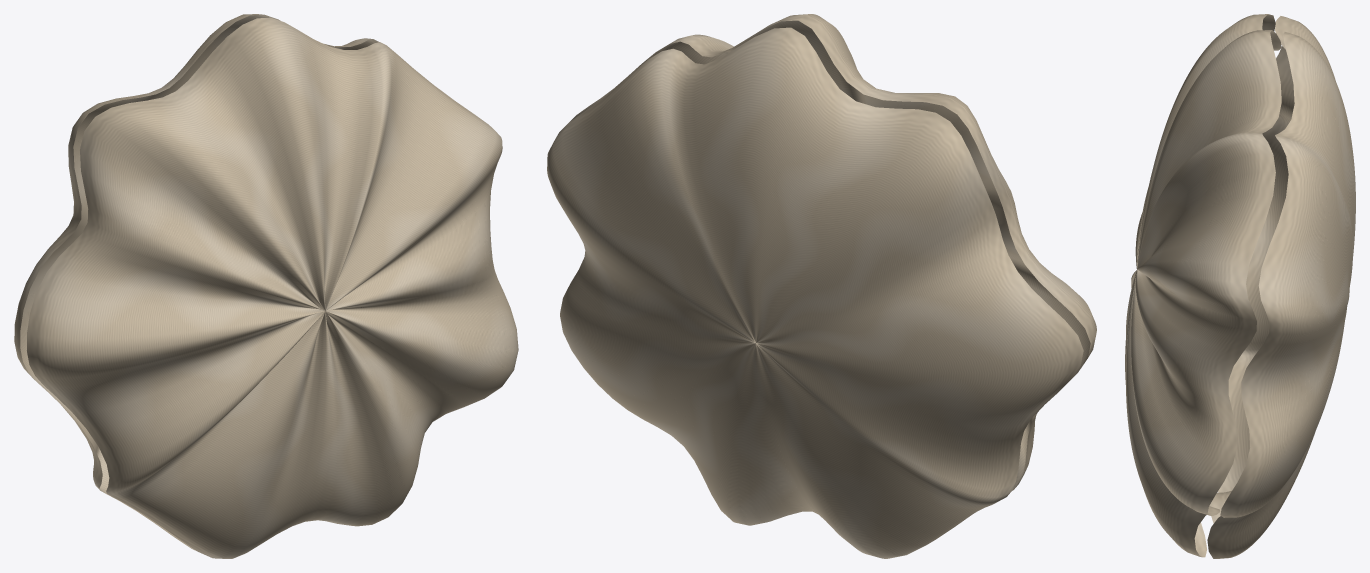
File: oyster.glb
The picture shows the model from 3 angles, left to right: view 1: azimuth 30°, elevation 25°; view 2: azimuth 150°, elevation 25°; view 3: azimuth 270°, elevation 25°; orthographic projection. The views are drawn at different scales.
Visible parts, largest first — view 1: oyster.001; view 2: oyster.001; view 3: oyster.001.
Boxes of the visible parts, x1,y1,x2,y2 form: oyster.001: (14,14,518,558); oyster.001: (547,14,1096,558); oyster.001: (1125,14,1355,558).
Size of the model in its own units: 2.39 by 2.38 by 1.02.
Materials: 2 (2 with a texture image).
